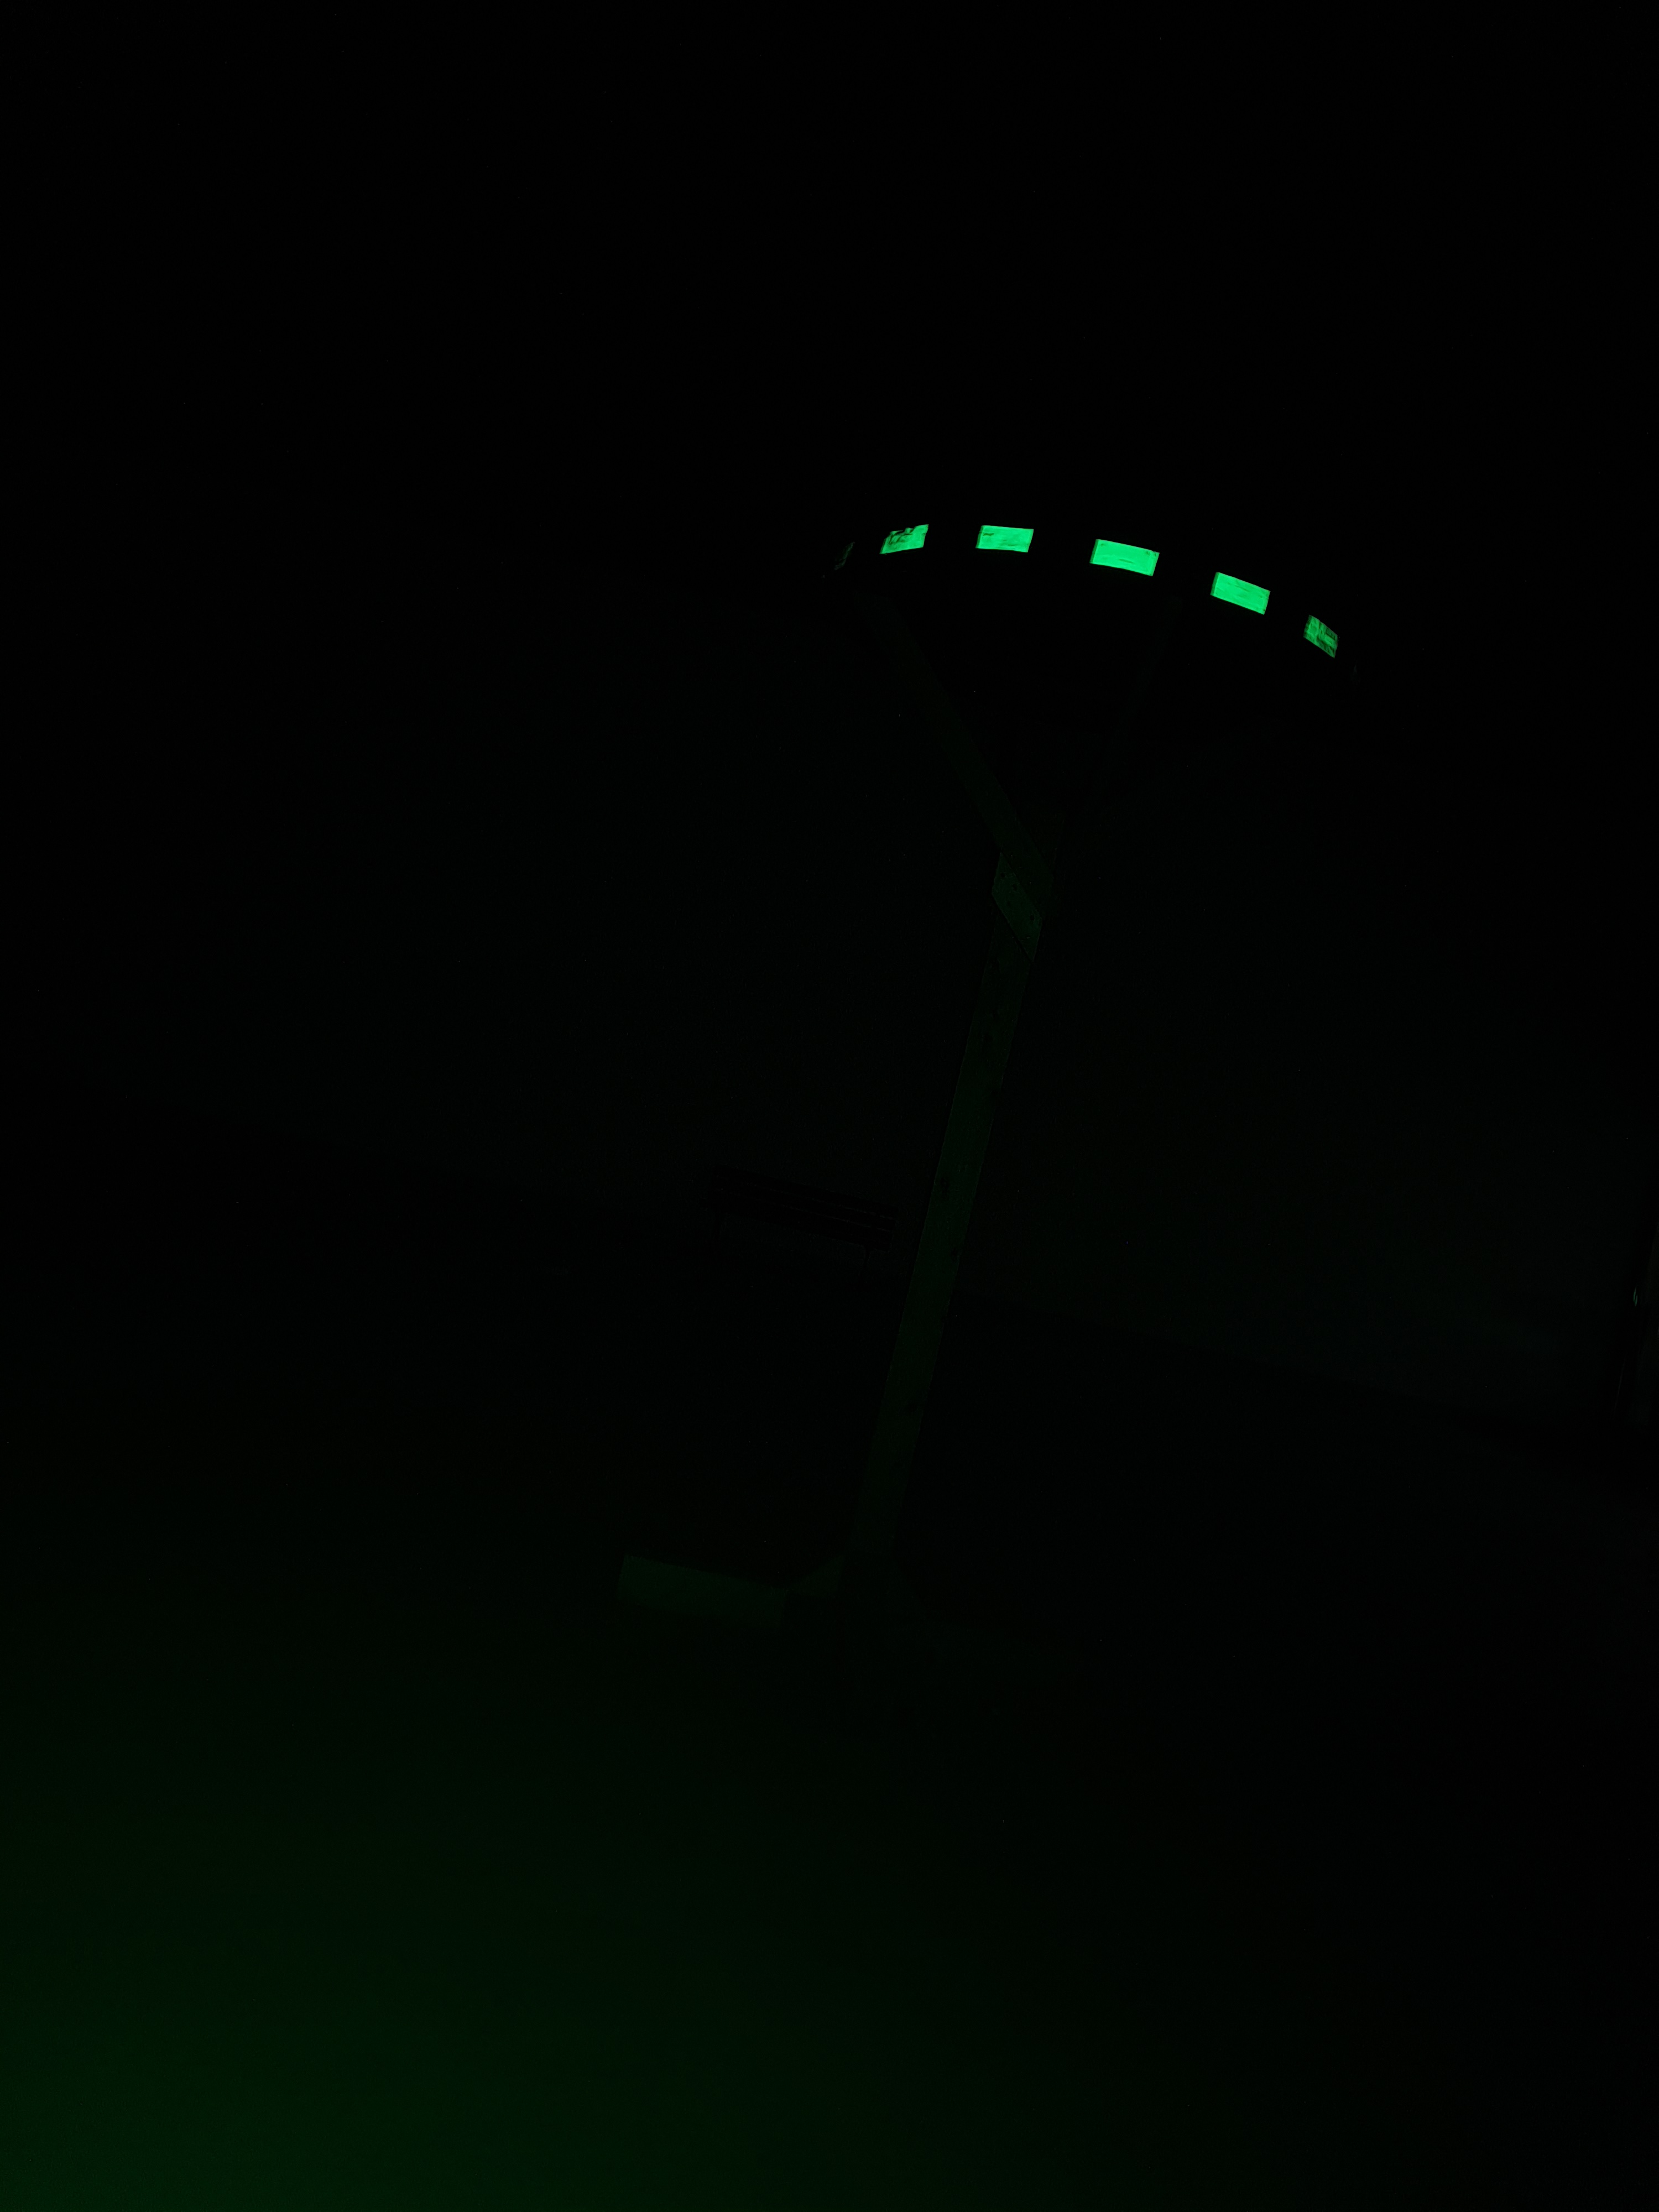hoop: (882, 523, 1342, 660)
